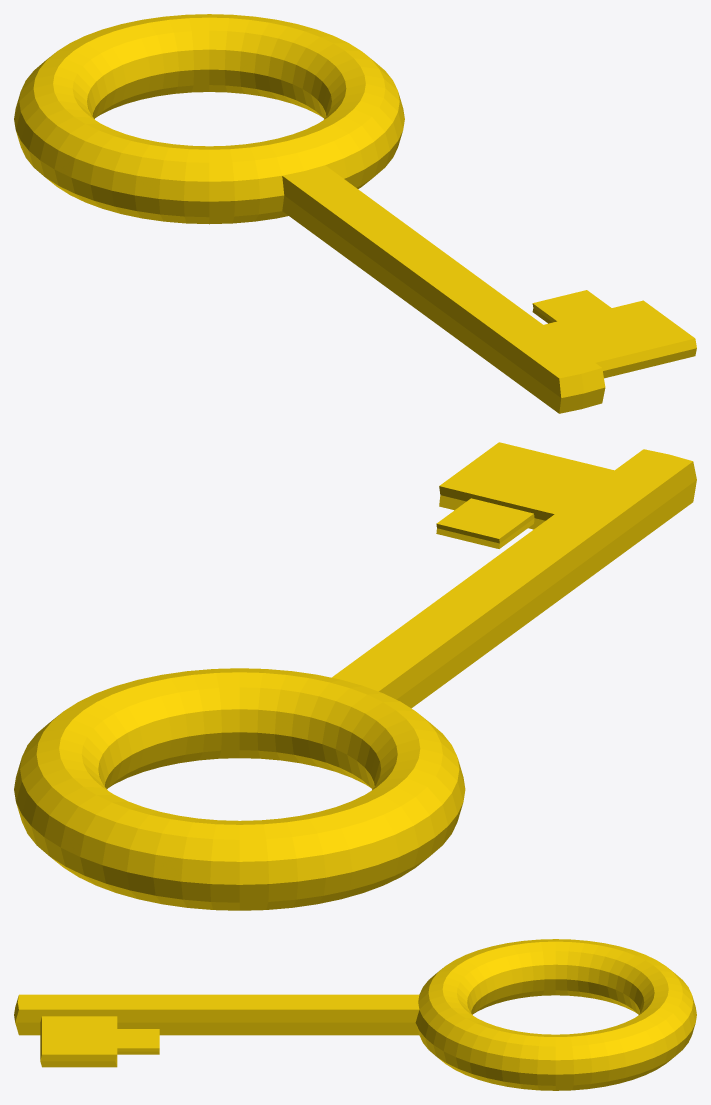
The model's file is KEYS.fbx.
3 views of the same model, one above another, from view 1: azimuth 30°, elevation 25°; view 2: azimuth 150°, elevation 25°; view 3: azimuth 270°, elevation 25° (orthographic). The views are drawn at different scales.
Visible parts, largest first — view 1: Torus; view 2: Torus; view 3: Torus.
Boxes of the visible parts, <box> form: Torus: <box>14,14,696,413</box>; Torus: <box>14,442,696,910</box>; Torus: <box>14,939,696,1090</box>.
Bounding box in the file's own units: 250 × 50 × 604.
